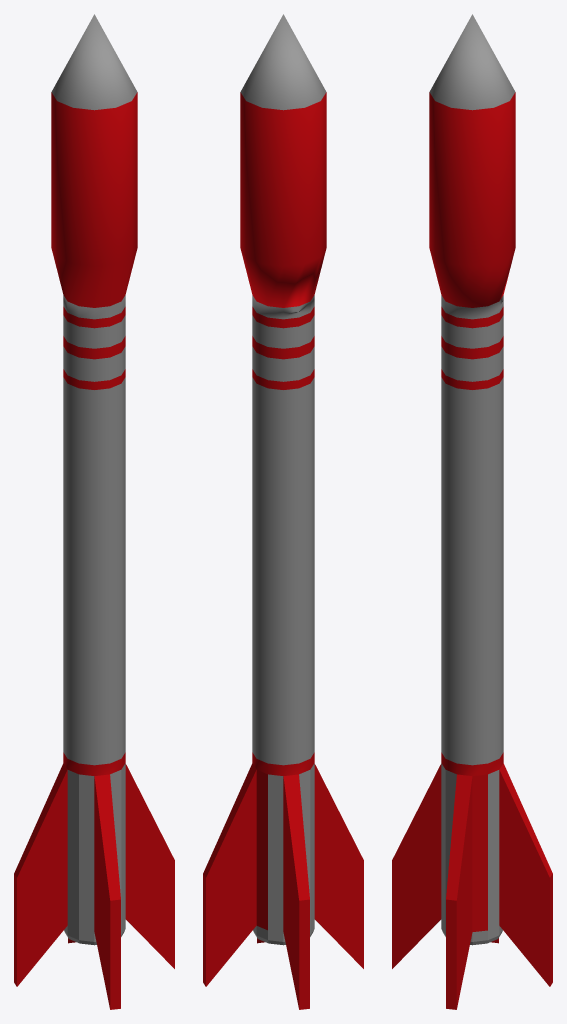
File: rocket_final.obj
3 views of the same model, side by side, from view 1: azimuth 30°, elevation 25°; view 2: azimuth 210°, elevation 25°; view 3: azimuth 270°, elevation 25° (orthographic).
Parts seen in each view (by area): view 1: Cone_Cone.002; view 2: Cone_Cone.002; view 3: Cone_Cone.002.
Part boxes in pixels (x1,y1,x2,y2): Cone_Cone.002: (14, 14, 174, 1009); Cone_Cone.002: (203, 14, 363, 1009); Cone_Cone.002: (392, 14, 552, 1009).
Size of the model in its own units: 0.1516 by 1 by 0.1516.
